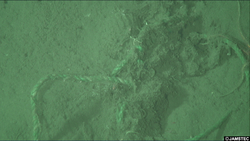rope: (20, 14, 178, 140), (189, 30, 250, 87)
